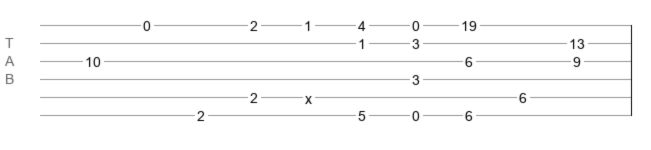0: (143, 18, 151, 28), (412, 18, 420, 28), (412, 108, 420, 118)
1: (304, 18, 312, 28), (358, 36, 366, 46)
10: (85, 54, 101, 64)
13: (569, 36, 585, 46)
19: (461, 18, 477, 28)
2: (197, 108, 205, 118), (250, 18, 258, 28), (250, 90, 258, 100)
3: (412, 72, 420, 82), (412, 36, 420, 46)
4: (358, 18, 366, 28)
5: (358, 108, 366, 118)
6: (465, 108, 473, 118), (465, 54, 473, 64), (519, 90, 527, 100)
9: (573, 54, 581, 64)
x: (305, 91, 312, 99)
